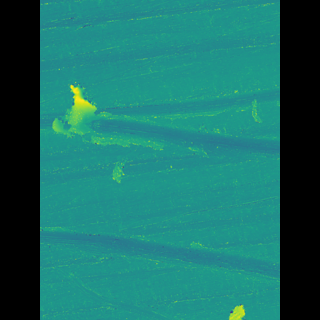Loch: (68, 228, 250, 296), (109, 84, 250, 161), (82, 265, 179, 320), (76, 76, 114, 154)
